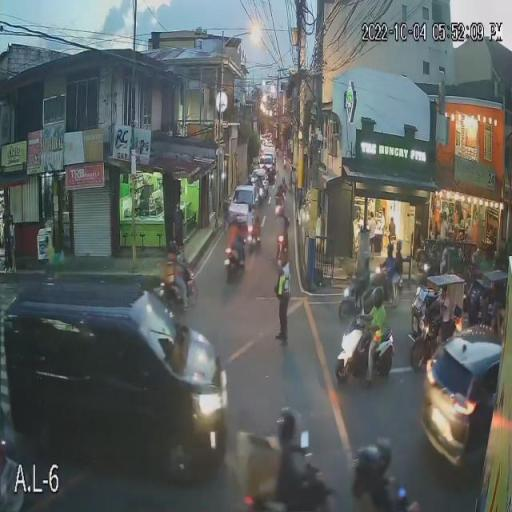helmet: (354, 440, 386, 476), (274, 408, 298, 440), (366, 286, 380, 302), (274, 206, 287, 222), (168, 242, 180, 255), (385, 240, 395, 254), (394, 240, 404, 254)
motorcycle: (238, 464, 341, 510), (336, 315, 394, 389), (338, 274, 384, 328), (162, 265, 198, 314), (368, 268, 403, 304), (223, 242, 247, 284), (270, 230, 294, 264)
rider: (270, 408, 328, 512), (353, 440, 402, 512), (359, 287, 387, 372), (161, 242, 192, 298), (352, 244, 374, 299), (226, 218, 246, 264), (394, 240, 407, 294), (382, 242, 396, 290), (270, 210, 291, 237)
